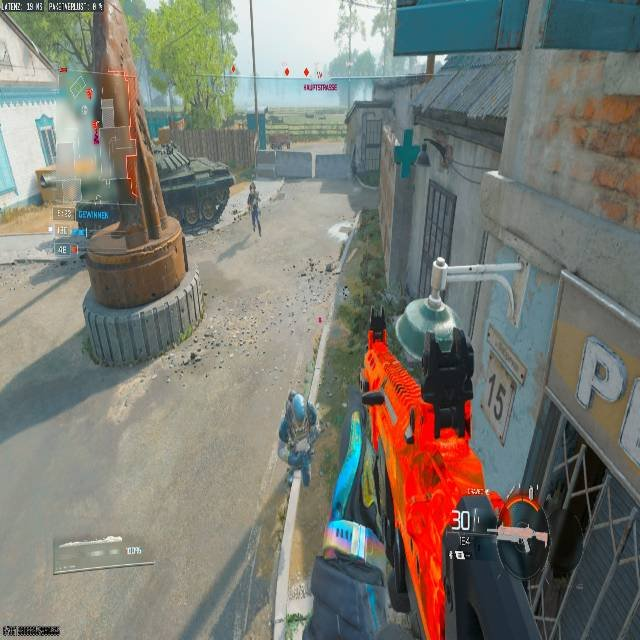player: (387, 292, 475, 444), (277, 383, 321, 498), (247, 184, 262, 236)
